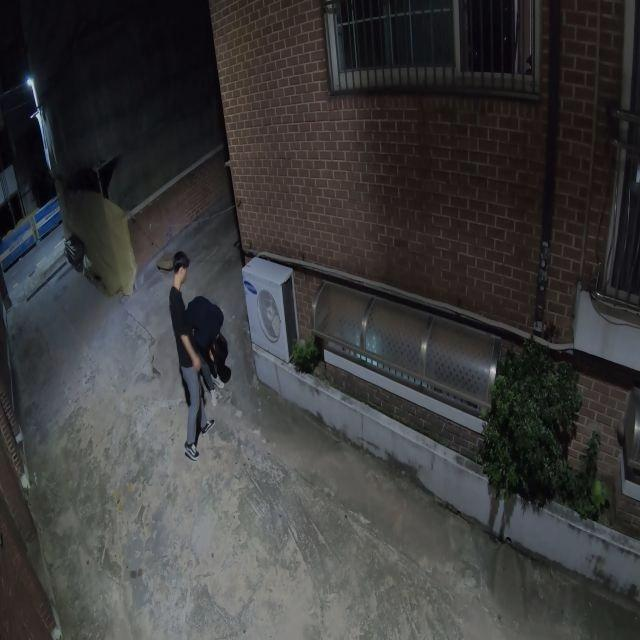fight: (163, 251, 234, 462)
